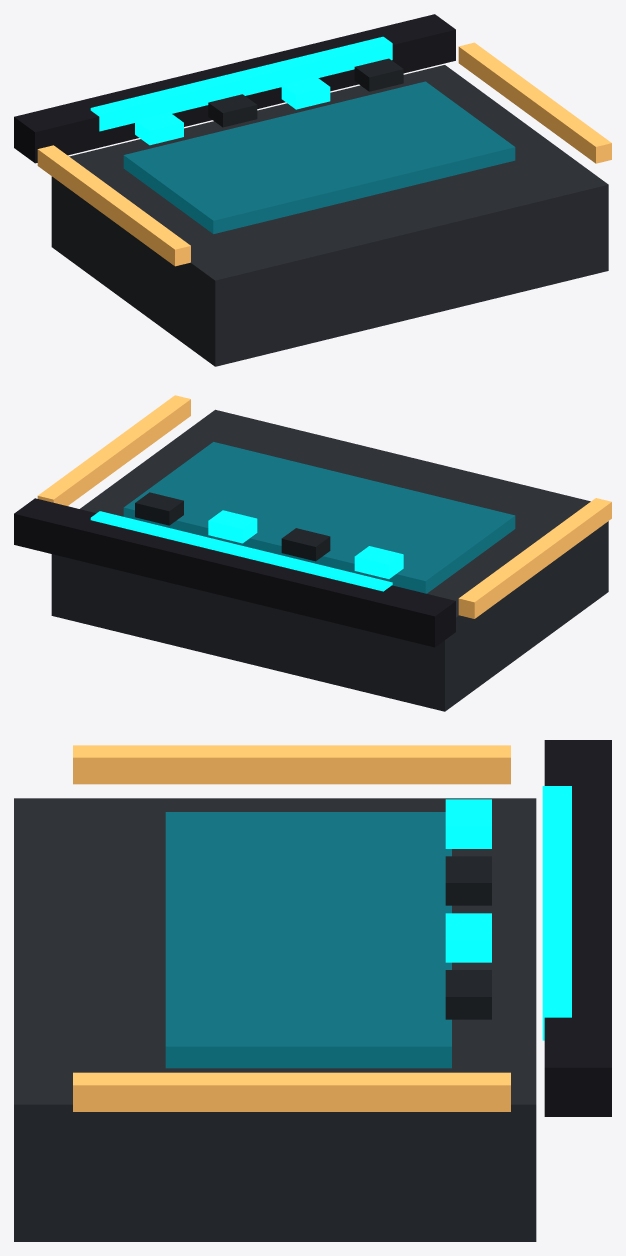
Rendered from systems_control.glb.
3 views of the same model, one above another, from view 1: azimuth 30°, elevation 25°; view 2: azimuth 150°, elevation 25°; view 3: azimuth 270°, elevation 25° (orthographic). The views are drawn at different scales.
Visible parts, largest first — view 1: systems_control_low_housing, systems_control_screen_glass, systems_control_front_lip, systems_control_accent_front_trace, systems_control_warm_side_trim_l, systems_control_warm_side_trim_r, systems_control_small_key_3, systems_control_small_key_1, systems_control_small_key_2, systems_control_small_key_0; view 2: systems_control_low_housing, systems_control_screen_glass, systems_control_front_lip, systems_control_warm_side_trim_l, systems_control_warm_side_trim_r, systems_control_accent_front_trace, systems_control_small_key_1, systems_control_small_key_2, systems_control_small_key_0, systems_control_small_key_3; view 3: systems_control_low_housing, systems_control_screen_glass, systems_control_front_lip, systems_control_warm_side_trim_l, systems_control_warm_side_trim_r, systems_control_accent_front_trace, systems_control_small_key_0, systems_control_small_key_1, systems_control_small_key_2, systems_control_small_key_3.
Boxes of the visible parts, x1=… form: systems_control_low_housing: x1=51, y1=65, x2=608, y2=366; systems_control_screen_glass: x1=123, y1=81, x2=515, y2=233; systems_control_front_lip: x1=14, y1=14, x2=455, y2=163; systems_control_accent_front_trace: x1=90, y1=36, x2=392, y2=131; systems_control_warm_side_trim_l: x1=37, y1=145, x2=190, y2=266; systems_control_warm_side_trim_r: x1=458, y1=42, x2=611, y2=163; systems_control_small_key_3: x1=354, y1=58, x2=403, y2=91; systems_control_small_key_1: x1=208, y1=94, x2=257, y2=127; systems_control_small_key_2: x1=281, y1=76, x2=330, y2=109; systems_control_small_key_0: x1=135, y1=112, x2=183, y2=145; systems_control_low_housing: x1=51, y1=409, x2=608, y2=711; systems_control_screen_glass: x1=123, y1=442, x2=515, y2=593; systems_control_front_lip: x1=14, y1=498, x2=455, y2=647; systems_control_warm_side_trim_l: x1=458, y1=498, x2=611, y2=618; systems_control_warm_side_trim_r: x1=37, y1=395, x2=190, y2=505; systems_control_accent_front_trace: x1=90, y1=511, x2=392, y2=591; systems_control_small_key_1: x1=281, y1=528, x2=330, y2=561; systems_control_small_key_2: x1=208, y1=510, x2=257, y2=543; systems_control_small_key_0: x1=354, y1=546, x2=403, y2=578; systems_control_small_key_3: x1=135, y1=492, x2=183, y2=525; systems_control_low_housing: x1=14, y1=798, x2=536, y2=1241; systems_control_screen_glass: x1=165, y1=812, x2=451, y2=1068; systems_control_front_lip: x1=544, y1=740, x2=611, y2=1116; systems_control_warm_side_trim_l: x1=73, y1=745, x2=510, y2=784; systems_control_warm_side_trim_r: x1=73, y1=1072, x2=510, y2=1111; systems_control_accent_front_trace: x1=542, y1=786, x2=571, y2=1040; systems_control_small_key_0: x1=445, y1=799, x2=491, y2=848; systems_control_small_key_1: x1=445, y1=856, x2=491, y2=905; systems_control_small_key_2: x1=445, y1=913, x2=491, y2=962; systems_control_small_key_3: x1=445, y1=970, x2=491, y2=1019.
Bounding box in the file's own units: 0.955 × 0.25 × 0.71.
